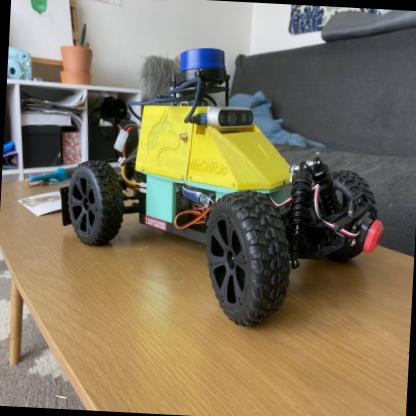mushr_car: (51, 38, 393, 335)
